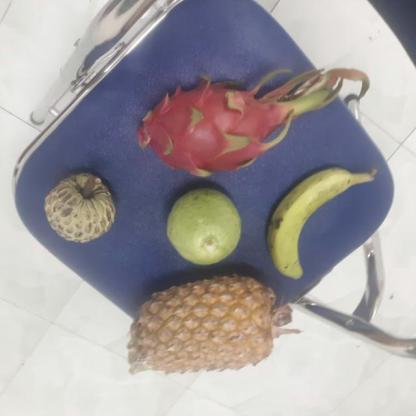annona: (40, 171, 115, 242)
banana: (261, 168, 357, 276)
guava: (163, 185, 243, 265)
pineapple: (126, 271, 278, 371)
pitaya: (131, 77, 286, 178)
